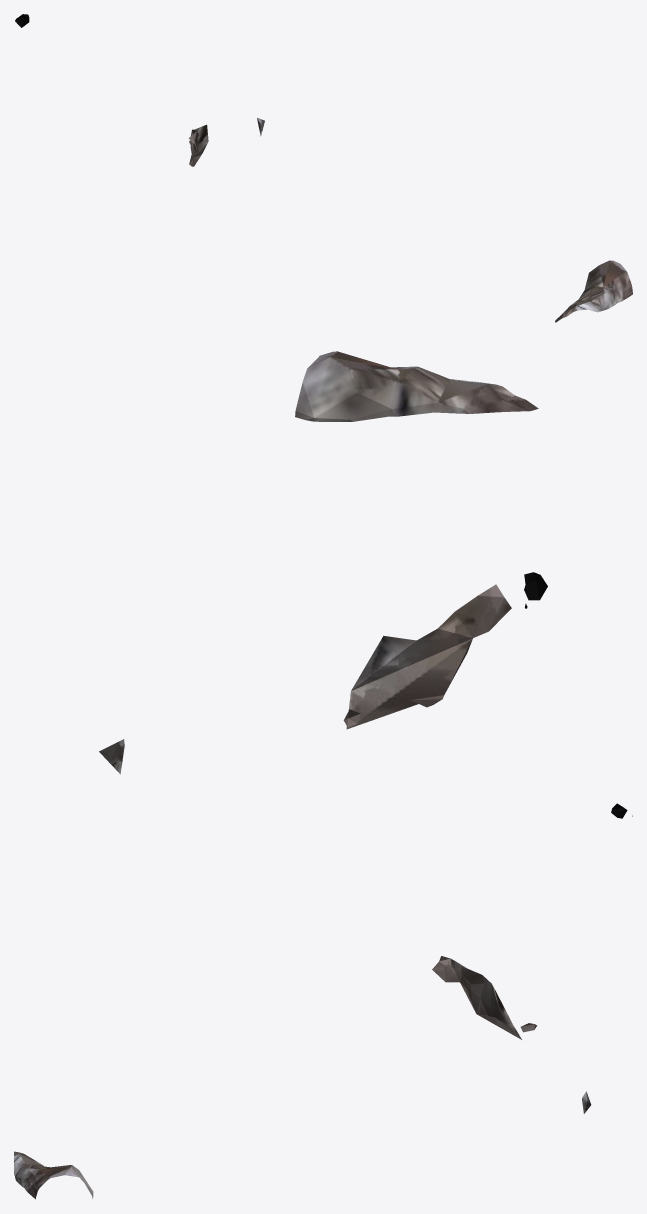
The picture shows the model from 3 angles, top to bottom: view 1: azimuth 30°, elevation 25°; view 2: azimuth 150°, elevation 25°; view 3: azimuth 270°, elevation 25°; orthographic projection. The views are drawn at different scales.
Bounding box in the file's own units: 7.91 × 3.73 × 10.44.
1 material, 1 textured.
